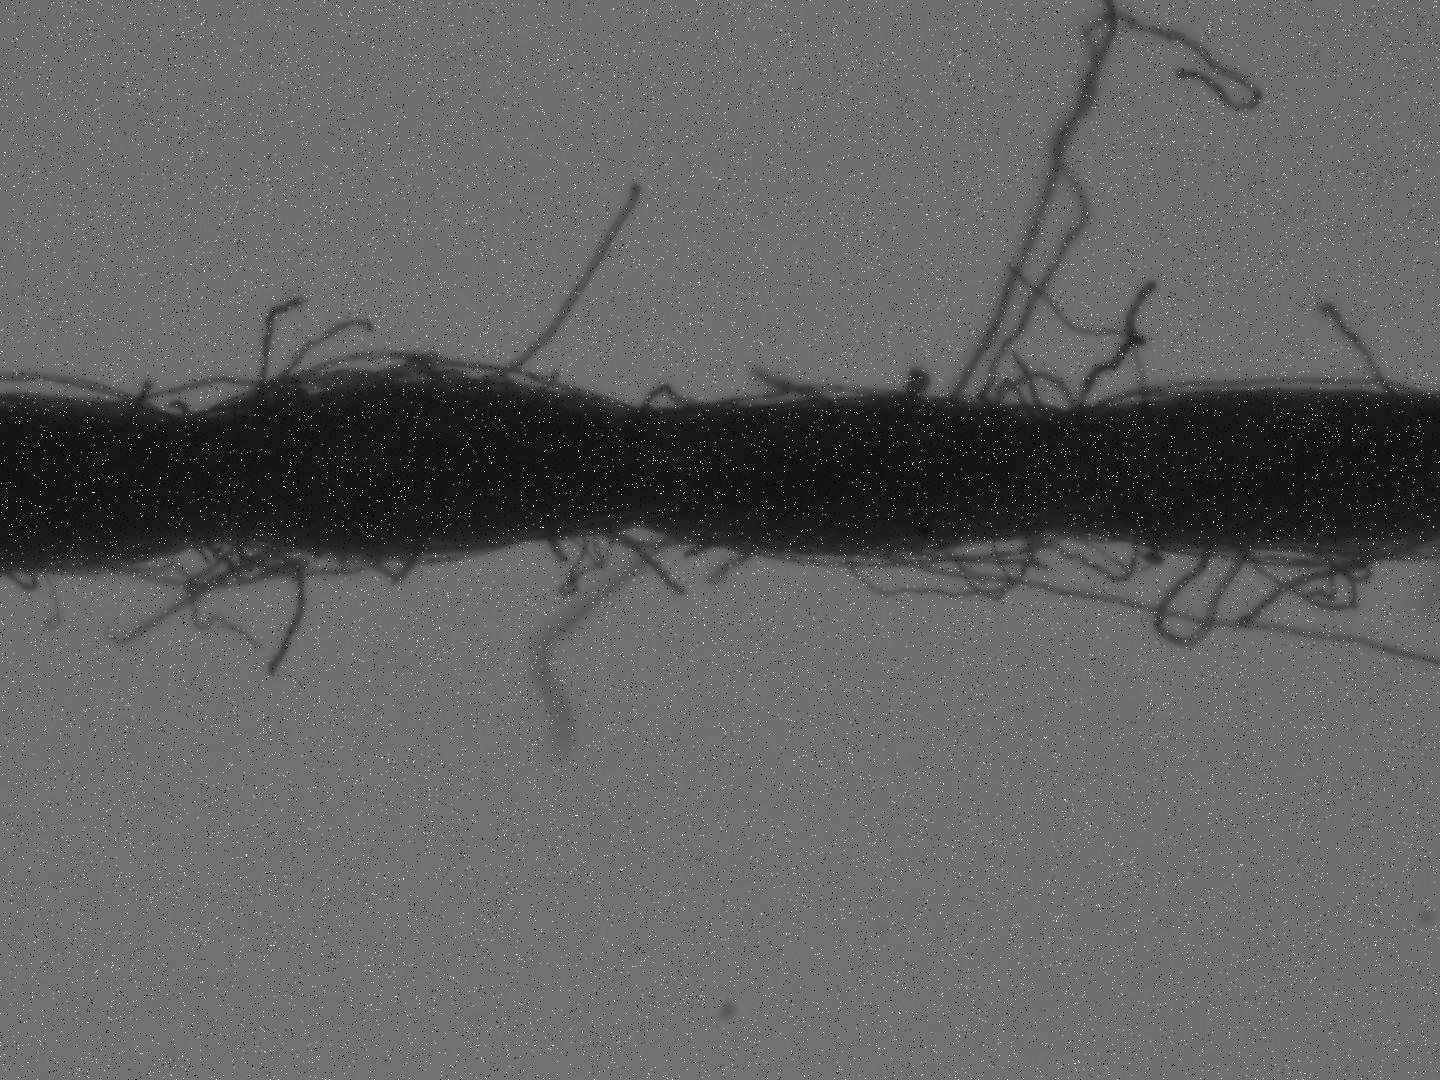loop_fiber: (265, 351, 617, 400), (842, 522, 1047, 606), (1220, 528, 1388, 616), (1152, 523, 1265, 652), (1043, 526, 1160, 581), (988, 361, 1081, 425), (346, 532, 430, 596), (637, 372, 749, 419), (594, 517, 701, 547), (7, 566, 42, 591)
protruding_fiber: (466, 182, 647, 394), (1310, 293, 1392, 393)
